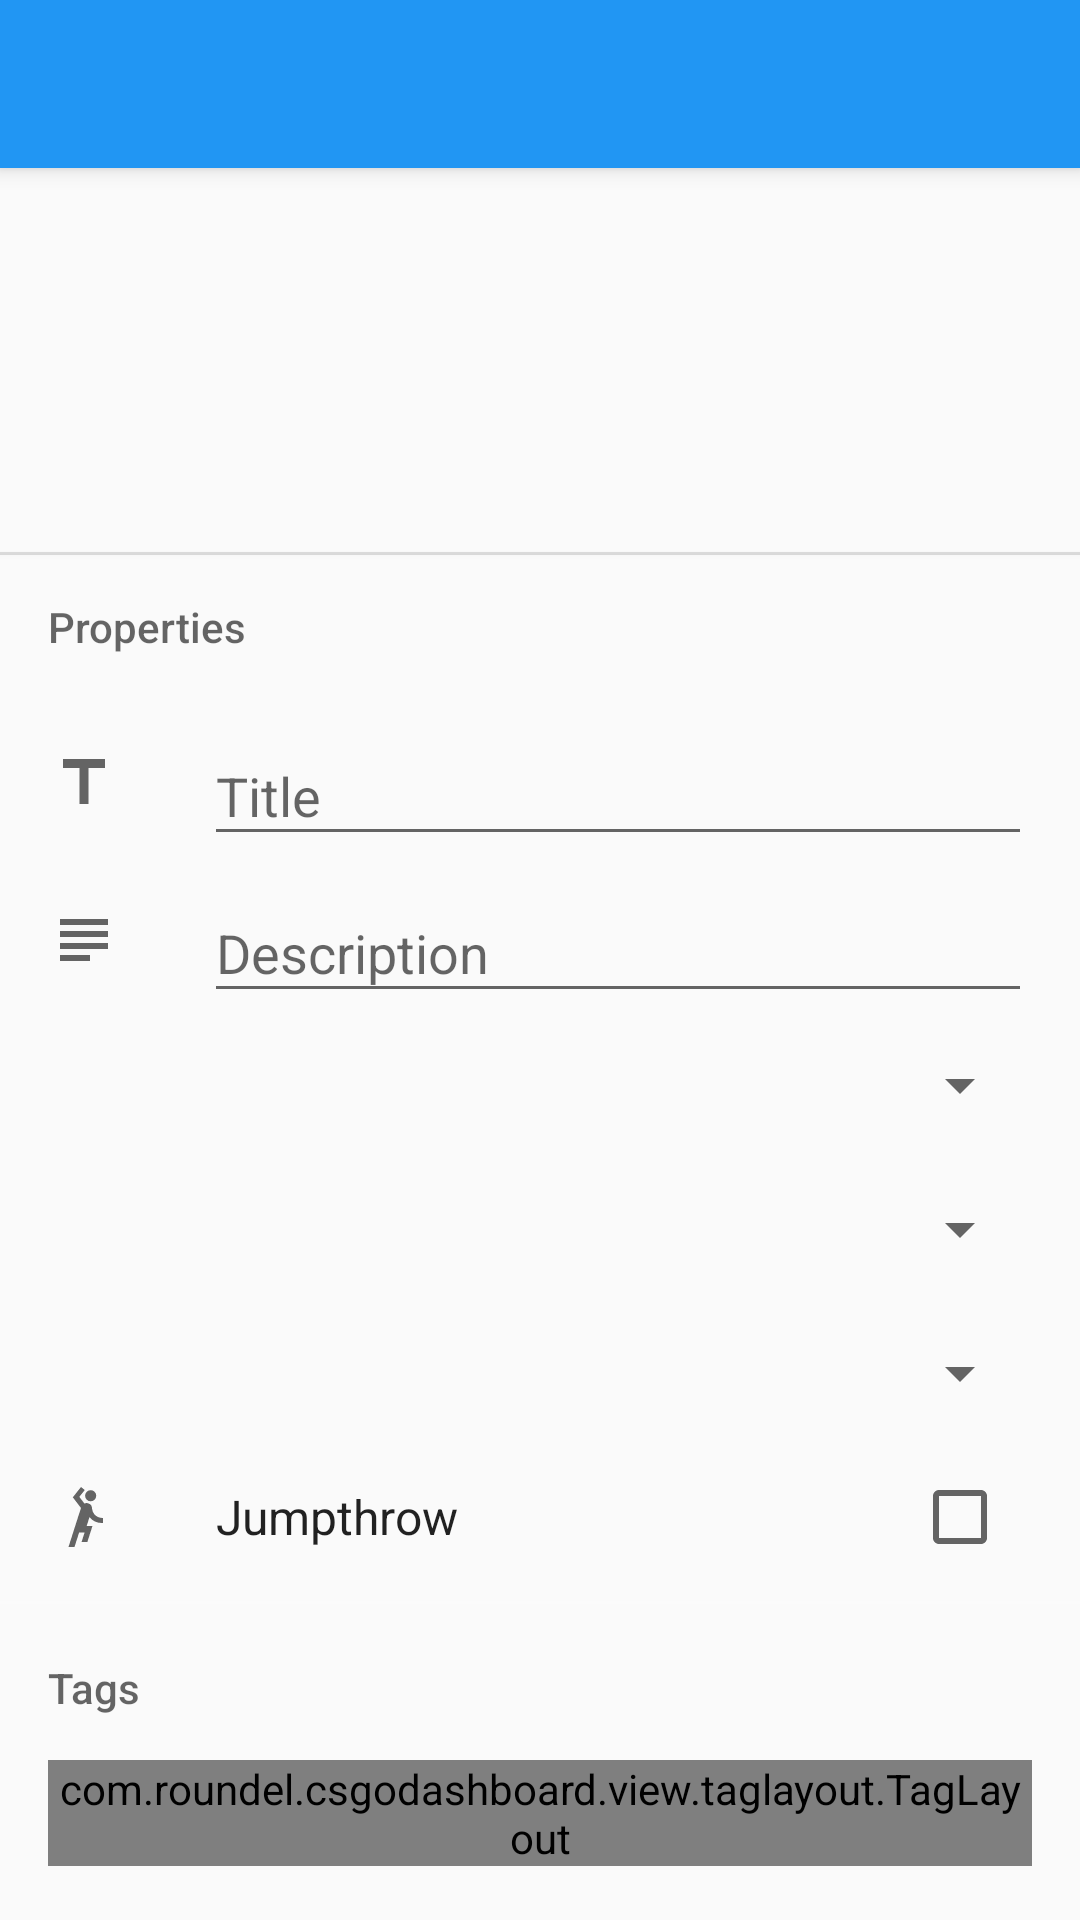

Icon bounding boxes for this 1080 x 1920 phone screenshot, format [x1,y1,x2,y2]:
subject: [60,919,108,961]
